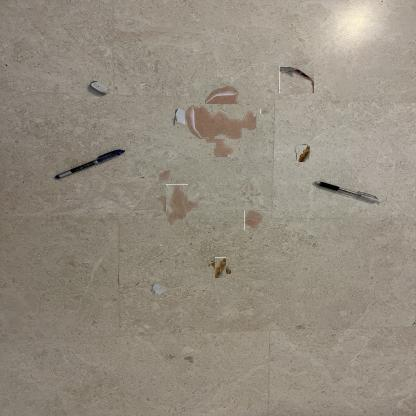dirty: (279, 66, 314, 93), (175, 109, 199, 127), (212, 260, 229, 276), (296, 144, 310, 162), (152, 283, 164, 295)
liquid: (195, 95, 249, 148), (162, 189, 193, 221), (244, 210, 263, 230), (158, 170, 172, 182), (245, 188, 257, 200), (260, 108, 269, 114)
